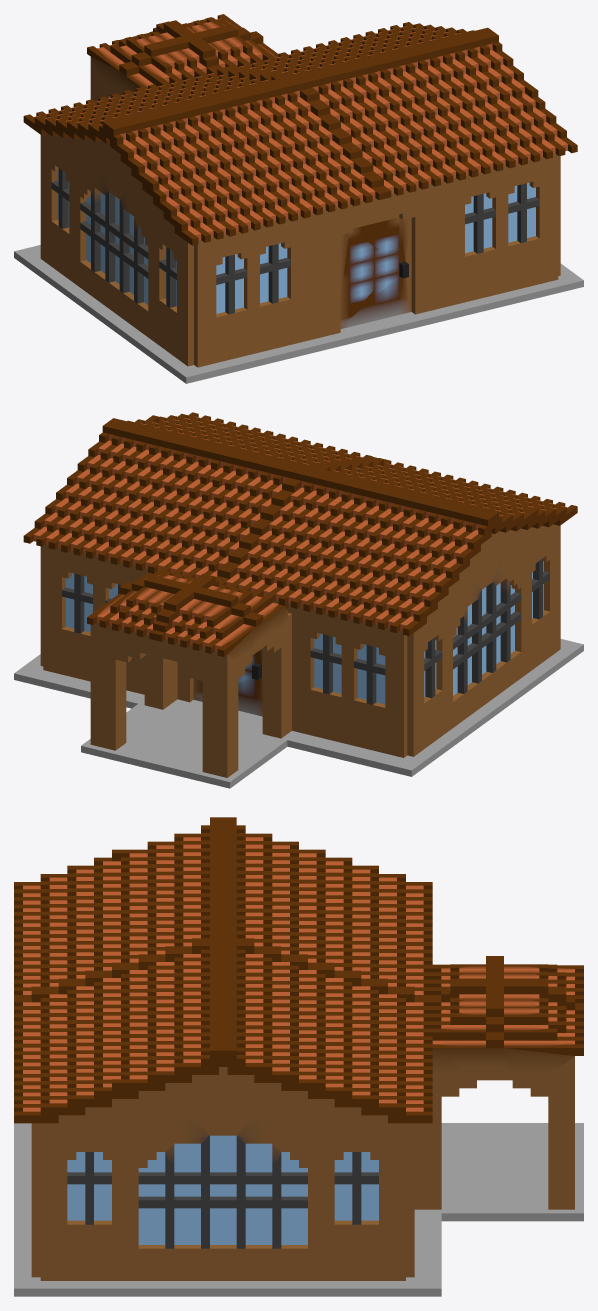
Rendered from obj_house5b.fbx.
3 views of the same model, one above another, from view 1: azimuth 30°, elevation 25°; view 2: azimuth 150°, elevation 25°; view 3: azimuth 270°, elevation 25° (orthographic). The views are drawn at different scales.
Visible parts, largest first — view 1: obj_house5b; view 2: obj_house5b; view 3: obj_house5b.
Part boxes in pixels (bbox=[...]): obj_house5b: bbox=[14, 14, 583, 383]; obj_house5b: bbox=[14, 412, 583, 788]; obj_house5b: bbox=[14, 817, 583, 1296].
Size of the model in its own units: 6.4 by 6.4 by 3.
Materials: 1 (1 with a texture image).
